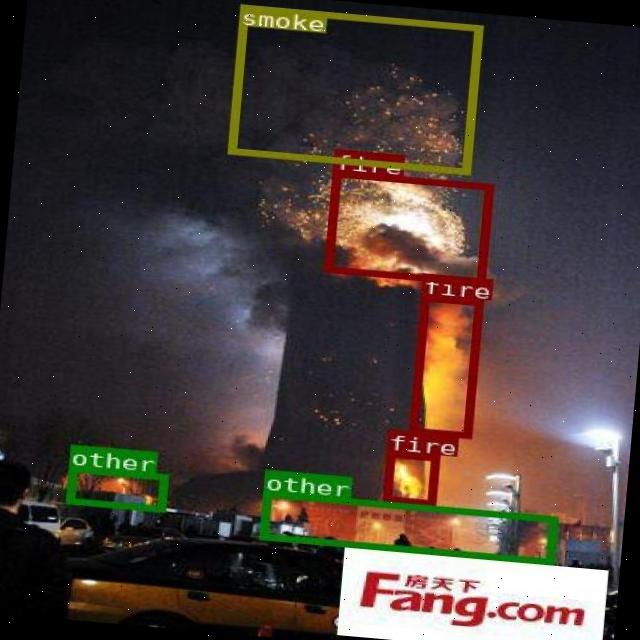fire: (322, 169, 492, 284), (408, 292, 482, 438), (381, 450, 436, 504)
smoke: (227, 3, 480, 174)
